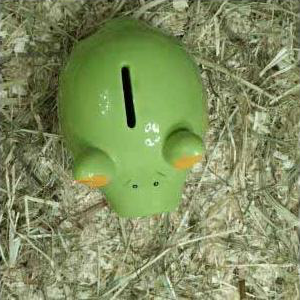piggy: (57, 16, 211, 218)
